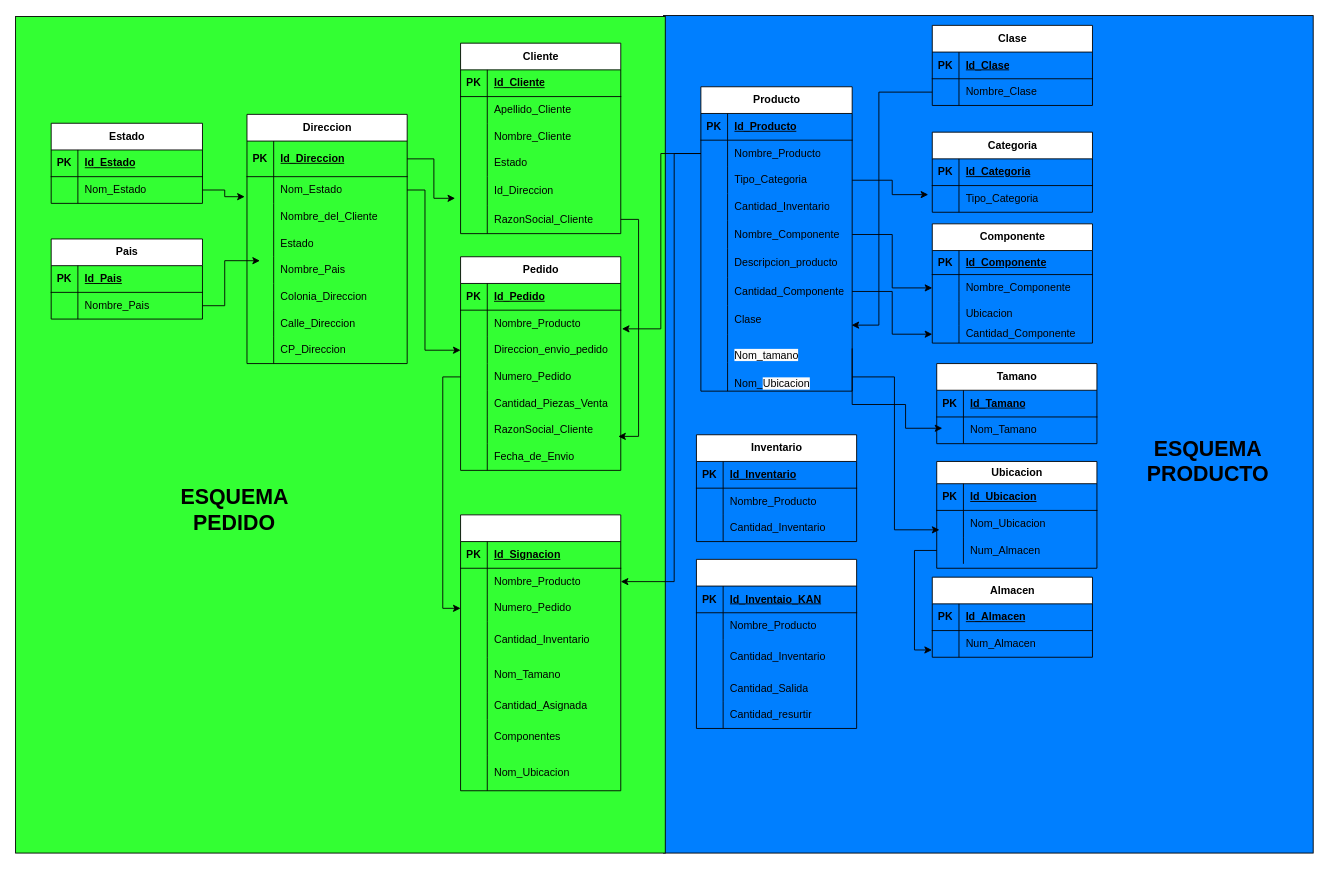
Image size: 1329x869. Some labels were removed from this diagram. The box of each missing label's shape, as (x1, y1, x2, y2) in pixels:
Asignaciones: (460, 514, 621, 791)
Inventario_KAN: (696, 558, 857, 728)
